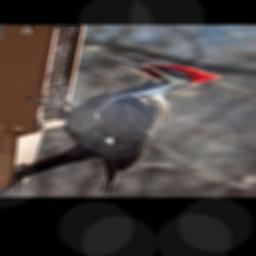Woodpecker: (0, 56, 225, 194)
